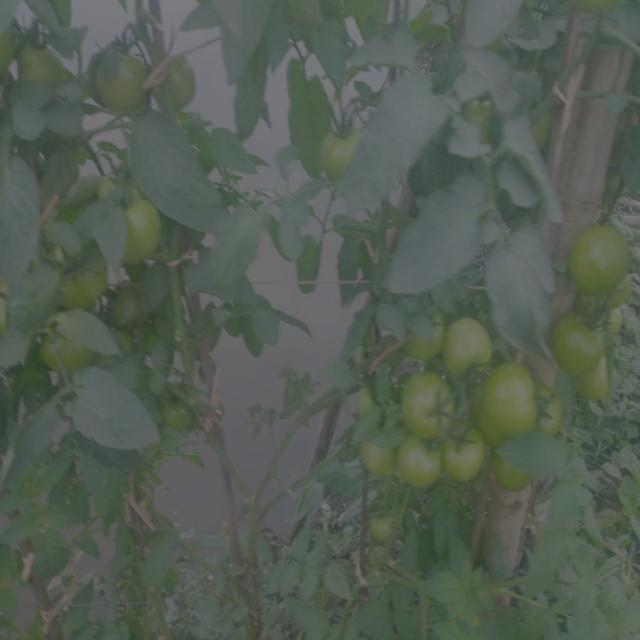tomato: (561, 218, 640, 290), (87, 35, 153, 121), (466, 363, 539, 440), (107, 183, 172, 269), (400, 372, 462, 439), (538, 310, 609, 365), (51, 250, 110, 313), (37, 328, 101, 385), (314, 112, 376, 167), (394, 437, 449, 491), (159, 380, 207, 434), (443, 322, 494, 371), (155, 54, 199, 110), (104, 280, 153, 330), (446, 436, 488, 487), (405, 305, 445, 357), (358, 436, 398, 483), (26, 51, 64, 93), (494, 459, 538, 495), (540, 391, 571, 441), (463, 92, 496, 136), (1, 24, 25, 79), (584, 365, 617, 403), (602, 289, 639, 316), (367, 508, 392, 543), (531, 111, 552, 147), (354, 390, 376, 424)
